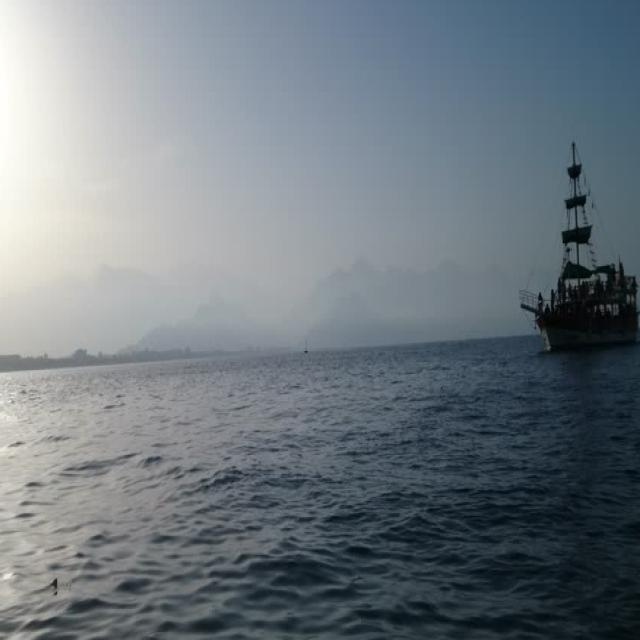fishing boat: (527, 139, 637, 346)
